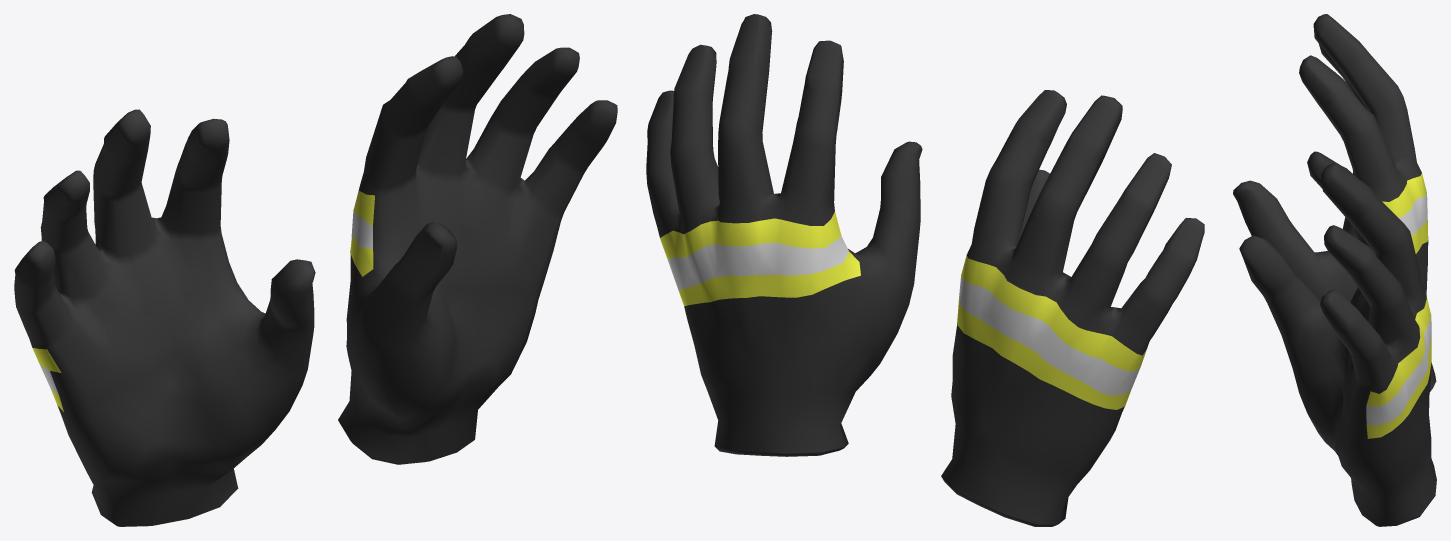
The model's file is F gloves.fbx.
The picture shows the model from 3 angles, left to right: view 1: azimuth 30°, elevation 25°; view 2: azimuth 150°, elevation 25°; view 3: azimuth 270°, elevation 25°; orthographic projection. The views are drawn at different scales.
Parts seen in each view (by area): view 1: hands:Rhand, hands:Lhand; view 2: hands:Lhand, hands:Rhand; view 3: hands:Lhand, hands:Rhand.
Boxes of the visible parts, bbox=[...] form: hands:Rhand: bbox=[14, 109, 315, 526]; hands:Lhand: bbox=[338, 14, 617, 464]; hands:Lhand: bbox=[646, 14, 922, 456]; hands:Rhand: bbox=[941, 90, 1204, 526]; hands:Lhand: bbox=[1239, 151, 1436, 526]; hands:Rhand: bbox=[1233, 14, 1436, 391].
Bounding box in the file's own units: 2294 × 1646 × 832.
